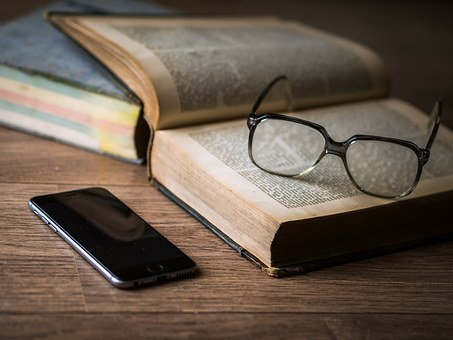mobile: (24, 188, 208, 289)
